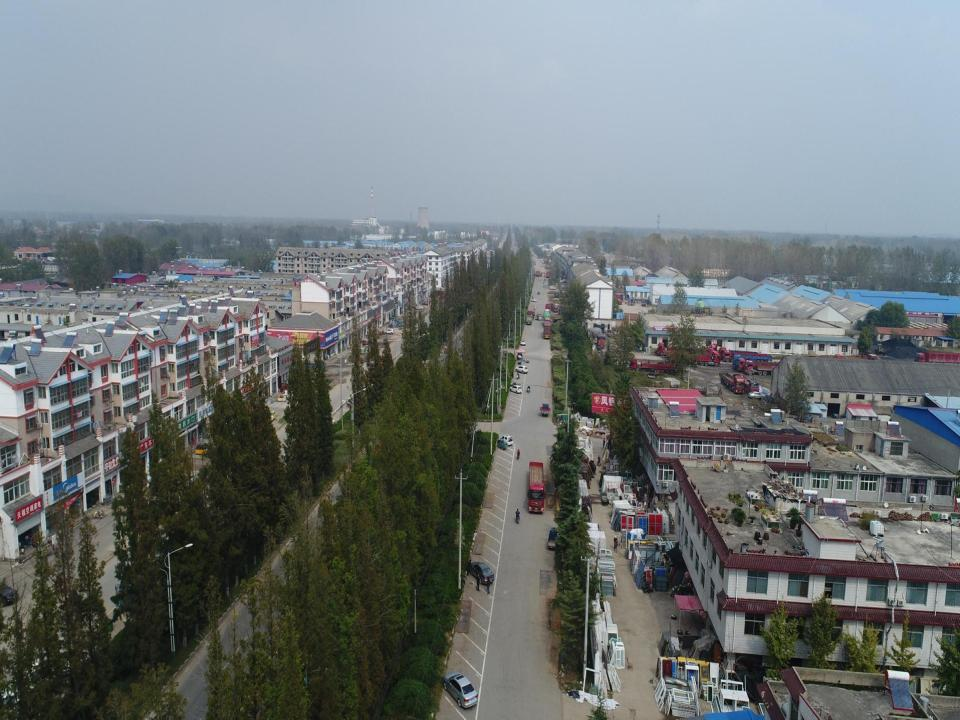car: (442, 671, 478, 709), (470, 560, 494, 585), (498, 434, 514, 447), (747, 391, 766, 400), (509, 385, 522, 394), (515, 365, 528, 373), (510, 382, 523, 390), (384, 329, 394, 334), (520, 338, 526, 346), (530, 297, 536, 303), (418, 305, 424, 309), (531, 310, 535, 316)
truck: (113, 545, 186, 622), (626, 357, 683, 376), (913, 346, 959, 369), (528, 460, 545, 514), (656, 341, 699, 359), (743, 360, 785, 377), (718, 370, 746, 395), (733, 371, 760, 394), (718, 347, 759, 362), (722, 350, 769, 363), (737, 357, 780, 371), (731, 355, 773, 369), (708, 344, 744, 360), (686, 350, 721, 366), (843, 352, 878, 368), (817, 352, 843, 369), (686, 347, 716, 360), (550, 313, 568, 325), (548, 528, 558, 549), (543, 317, 551, 339), (540, 402, 550, 417), (597, 333, 606, 349), (549, 301, 559, 313), (526, 310, 534, 325), (544, 303, 551, 313), (543, 310, 550, 320), (536, 313, 543, 322), (546, 271, 550, 280), (534, 270, 539, 277)
van: (592, 338, 604, 345), (414, 305, 422, 310), (539, 271, 543, 277), (550, 286, 556, 289)
